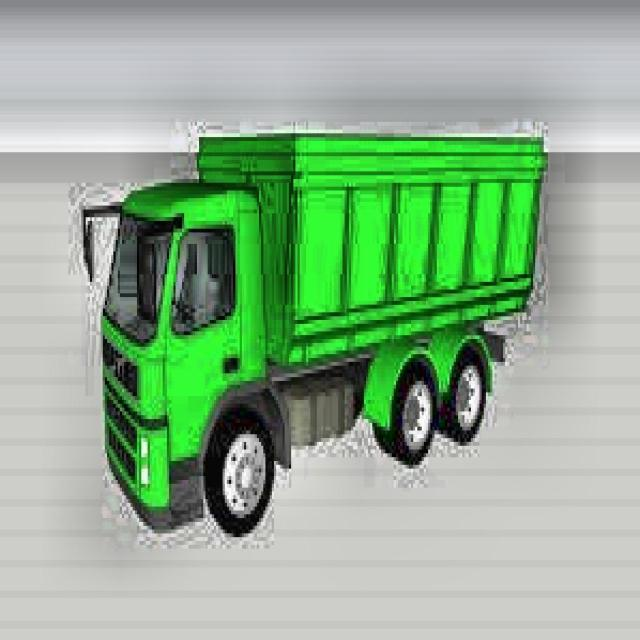dump_truck: (79, 139, 549, 536)
